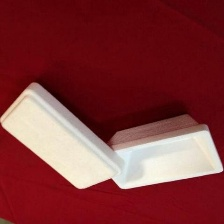foam_box: (0, 78, 127, 194), (103, 109, 223, 194)
